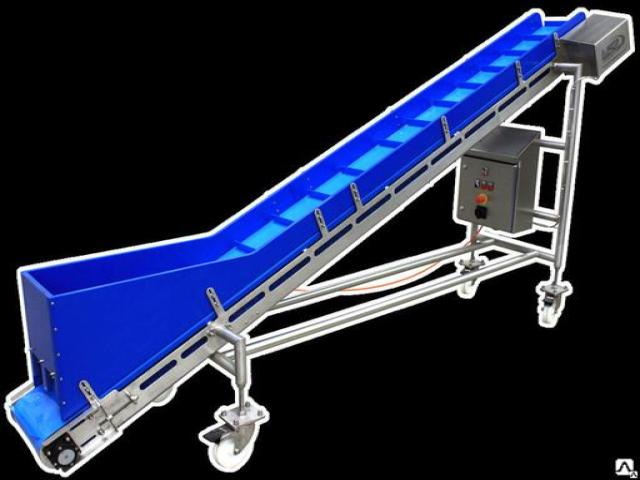conveyor: (1, 5, 636, 477)
